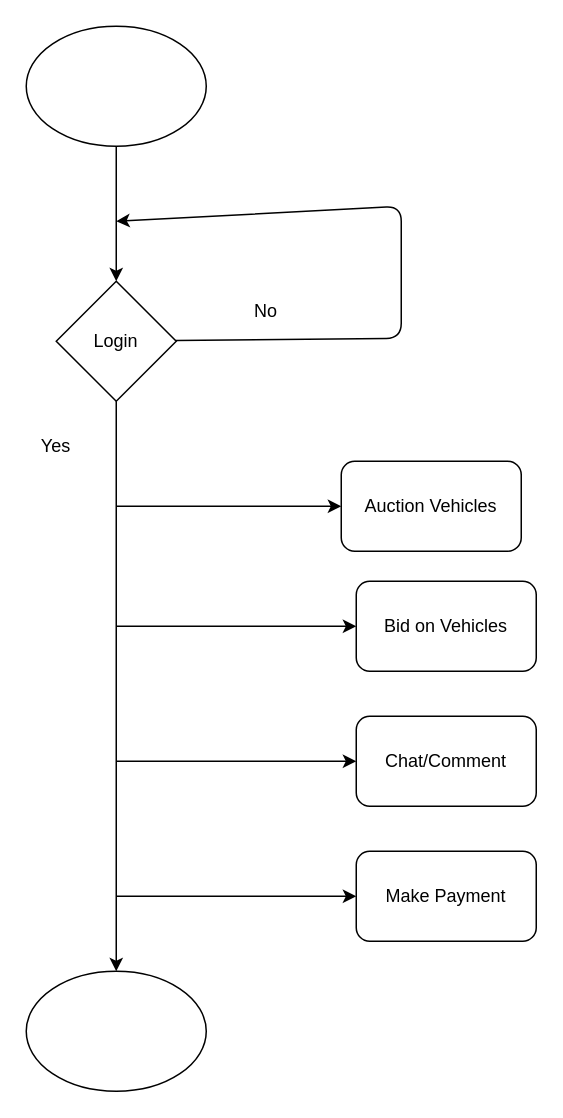
This 563x1118 diagram has some shape labels left out. The shapes that lost their labels are listed below. From the top down, each one's centre as x and y in pixels, then its label:
At (115,85): "User".
At (115,1030): "Logout".
